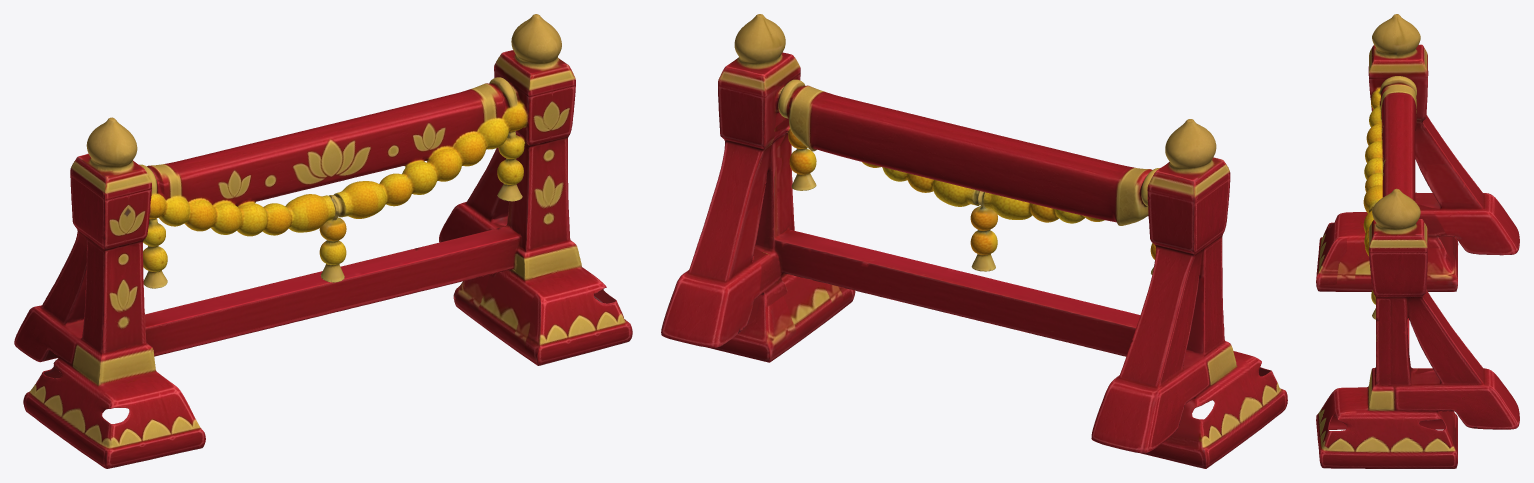
Rendered from marigold_temple_gate.glb.
3 renders of one model, left to right at view 1: azimuth 30°, elevation 25°; view 2: azimuth 150°, elevation 25°; view 3: azimuth 270°, elevation 25°, orthographic. The views are drawn at different scales.
Size of the model in its own units: 1.9 by 1.05 by 0.7509.
Materials: 1 (1 with a texture image).
